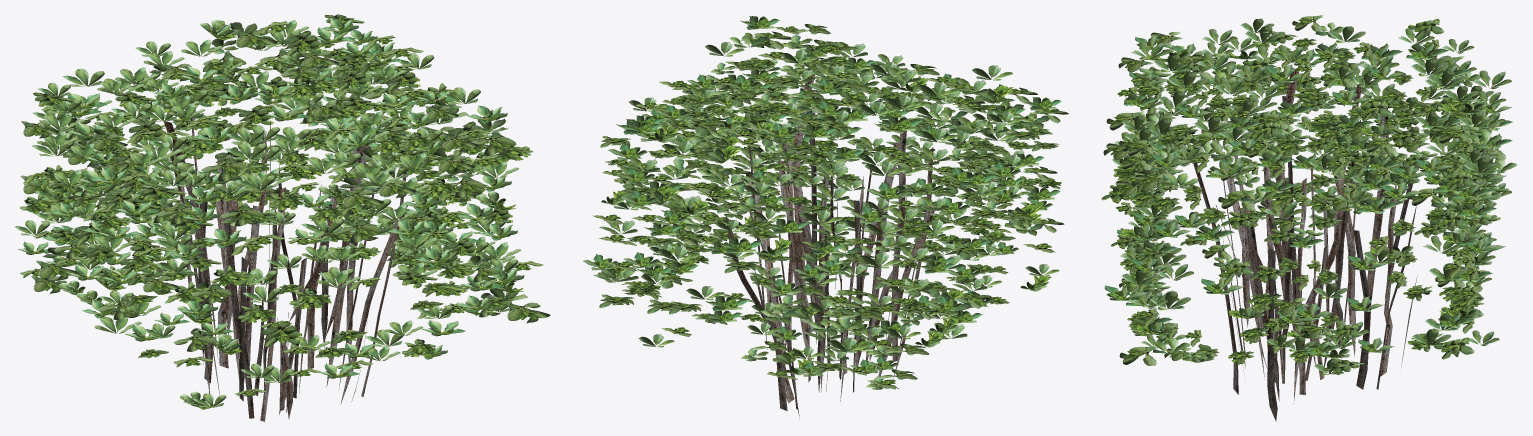
The model's file is dongqing_a02.fbx.
The picture shows the model from 3 angles, left to right: view 1: azimuth 30°, elevation 25°; view 2: azimuth 150°, elevation 25°; view 3: azimuth 270°, elevation 25°; orthographic projection. The views are drawn at different scales.
Visible parts, largest first — view 1: dongqing_a02; view 2: dongqing_a02; view 3: dongqing_a02.
Boxes of the visible parts, bbox=[...] form: dongqing_a02: bbox=[14, 14, 550, 421]; dongqing_a02: bbox=[583, 16, 1068, 417]; dongqing_a02: bbox=[1101, 15, 1516, 421].
Bounding box in the file's own units: 1.5 × 1.2 × 1.52.
